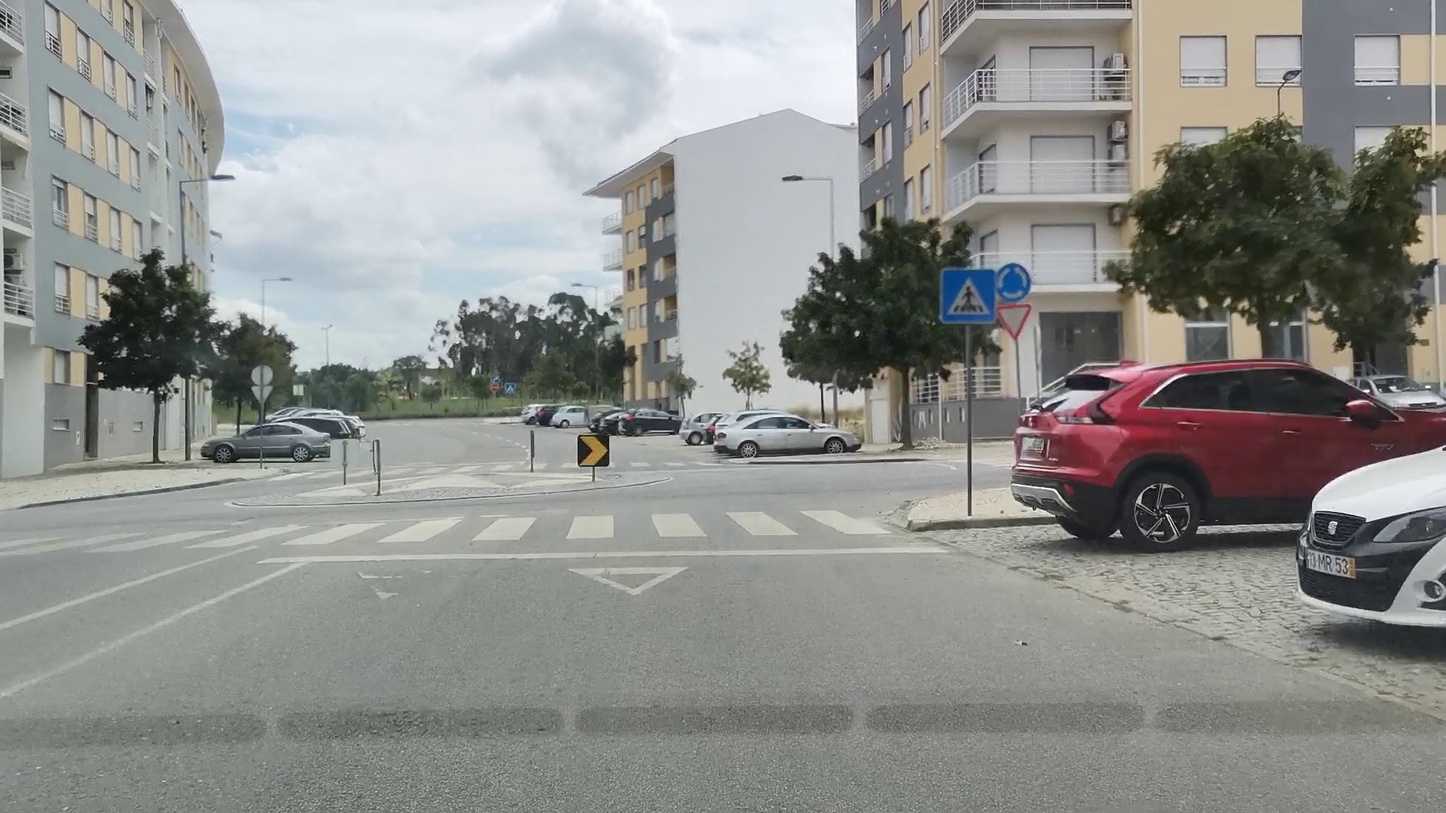Stairs: (0, 509, 896, 550)
